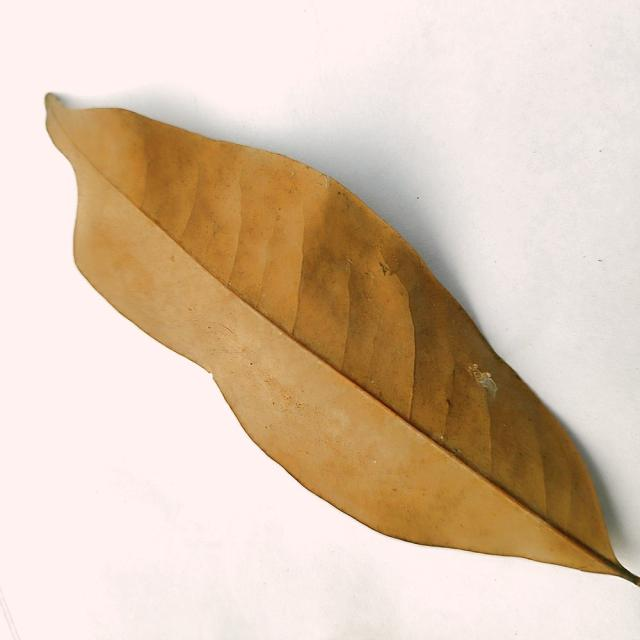Dry_Leaf-Lychee: (45, 94, 639, 586)
